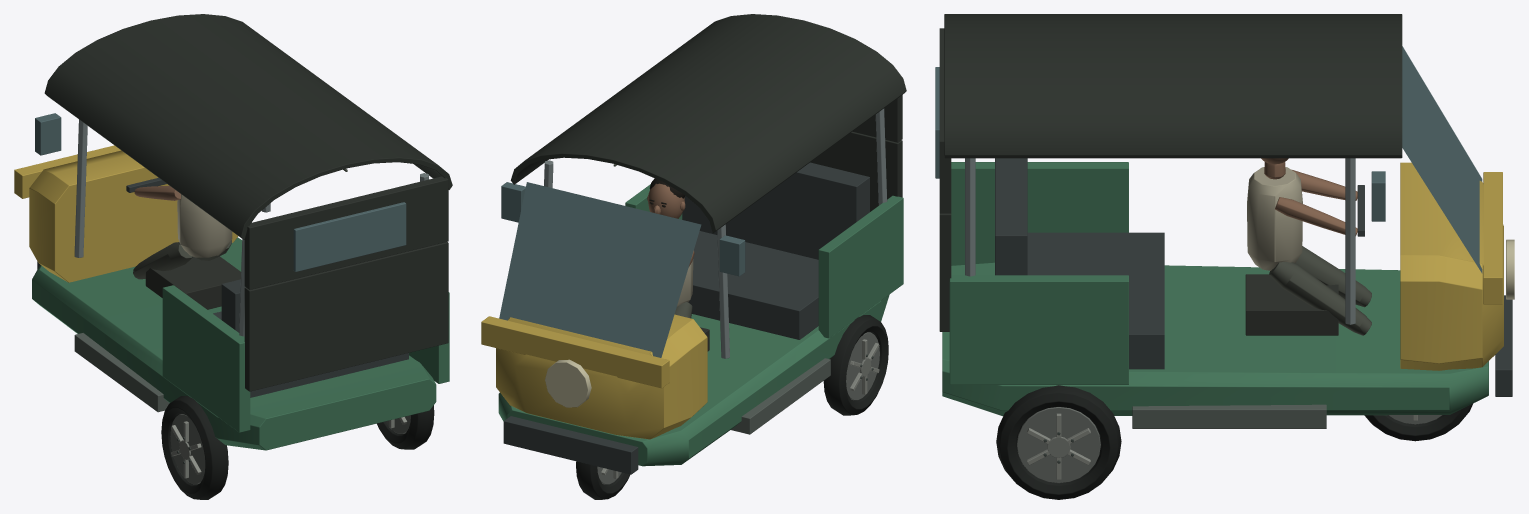
File: auto_rickshaw.glb
3 views of the same model, side by side, from view 1: azimuth 30°, elevation 25°; view 2: azimuth 150°, elevation 25°; view 3: azimuth 270°, elevation 25° (orthographic). The views are drawn at different scales.
Parts seen in each view (by area): view 1: auto_rickshaw; view 2: auto_rickshaw; view 3: auto_rickshaw.
Part boxes in pixels (x1=…): auto_rickshaw: x1=14, y1=14, x2=452, y2=499; auto_rickshaw: x1=481, y1=14, x2=906, y2=499; auto_rickshaw: x1=935, y1=14, x2=1514, y2=499.
Bounding box in the file's own units: 1.53 × 2.04 × 2.68.
